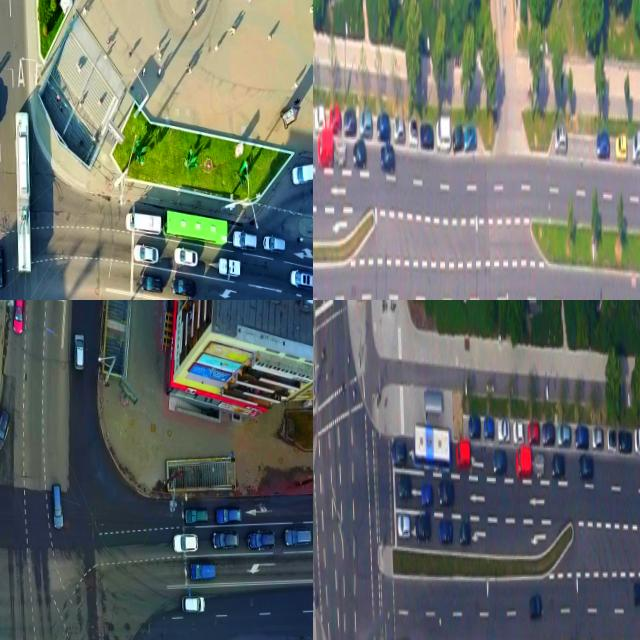UAI: (49, 483, 66, 531), (246, 527, 276, 552), (172, 531, 200, 556), (284, 525, 313, 547), (187, 560, 216, 581), (232, 228, 257, 252), (72, 330, 86, 372), (0, 407, 13, 452), (211, 530, 240, 550), (288, 267, 313, 290), (182, 506, 209, 527), (133, 243, 159, 264), (317, 133, 333, 167), (11, 300, 26, 335), (181, 593, 206, 614), (170, 277, 196, 297), (515, 447, 531, 479), (435, 116, 450, 150), (173, 247, 198, 267), (391, 434, 406, 466), (455, 439, 470, 469), (438, 479, 454, 507), (218, 256, 239, 277), (140, 274, 163, 293), (262, 234, 285, 253), (380, 142, 395, 171), (352, 139, 366, 169), (492, 446, 506, 475), (578, 452, 592, 481), (415, 514, 430, 541), (419, 122, 433, 149), (554, 125, 567, 154), (376, 113, 389, 142), (358, 109, 371, 138), (596, 131, 609, 158), (343, 108, 356, 135), (398, 473, 411, 500), (614, 132, 626, 161), (463, 124, 476, 150), (438, 519, 452, 543), (551, 453, 565, 477), (574, 425, 588, 449), (329, 107, 341, 133), (529, 595, 542, 619), (397, 514, 410, 538), (631, 129, 640, 163), (618, 429, 631, 452), (557, 424, 570, 447), (467, 415, 480, 438), (314, 106, 325, 133), (459, 521, 471, 545), (542, 421, 554, 445), (527, 420, 539, 444), (335, 139, 346, 165), (452, 124, 463, 150), (497, 419, 509, 442), (534, 452, 544, 479), (421, 483, 432, 507), (512, 419, 523, 443), (394, 118, 405, 141), (483, 416, 494, 439), (591, 427, 603, 448), (408, 119, 417, 145), (632, 581, 640, 607), (606, 427, 615, 450), (634, 425, 640, 454), (0, 245, 4, 288)
car: (12, 111, 33, 271), (163, 208, 227, 246), (413, 421, 451, 471)
harvester: (125, 210, 162, 235), (290, 158, 313, 184)
